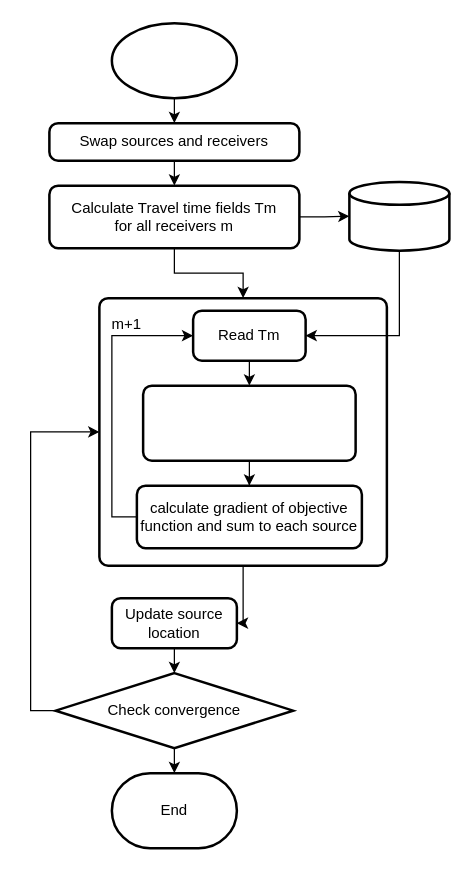
Image size: 473x870. Some labels were removed from this diagram. Here are the shapes that lost their labels. From the top down, the centre of each, then its label:
At [174,60]: "Start with run_mode : 2".
At [399,215]: "Output files".
At [248,422]: "Extract Travel time at each source Tm(Xs)".
